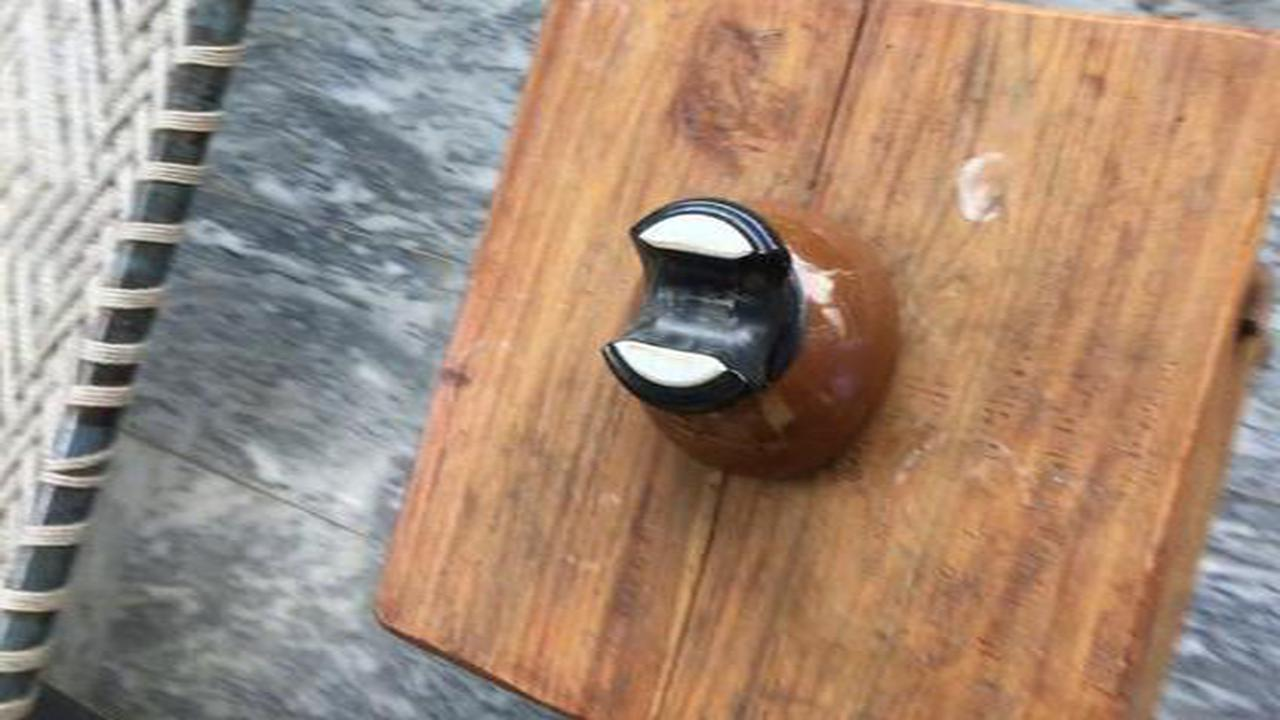insulator_pin: (579, 180, 933, 499)
